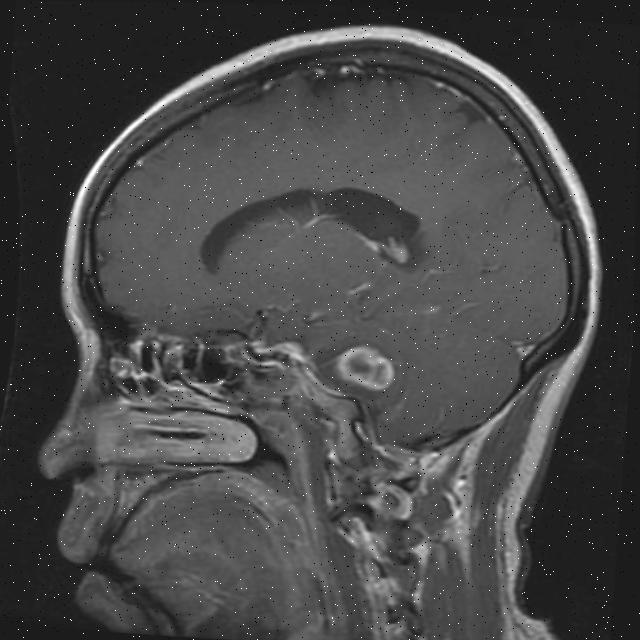Glioma: (333, 342, 399, 395)
